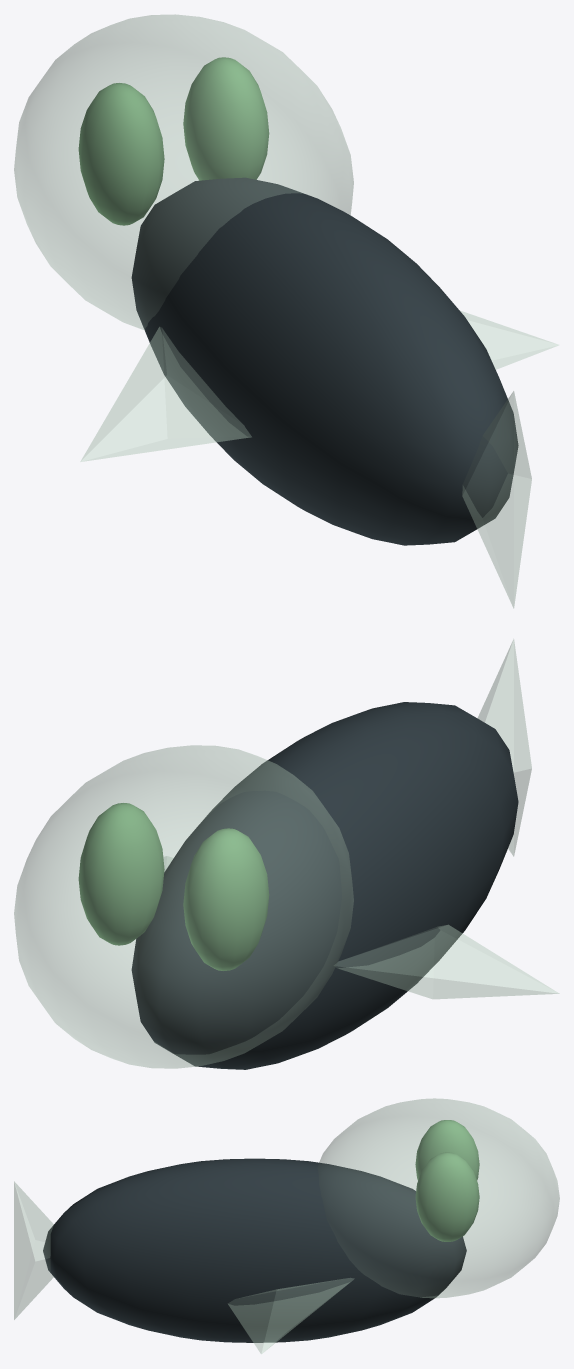
The model's file is barreleye.glb.
The picture shows the model from 3 angles, top to bottom: view 1: azimuth 30°, elevation 25°; view 2: azimuth 150°, elevation 25°; view 3: azimuth 270°, elevation 25°; orthographic projection. The views are drawn at different scales.
Parts seen in each view (by area): view 1: barreleye; view 2: barreleye; view 3: barreleye.
Part boxes in pixels (x1,y1,x2,y2): barreleye: [14, 14, 558, 608]; barreleye: [14, 639, 559, 1069]; barreleye: [14, 1098, 559, 1353].
Bounding box in the file's own units: 0.11 × 0.079 × 0.17.
